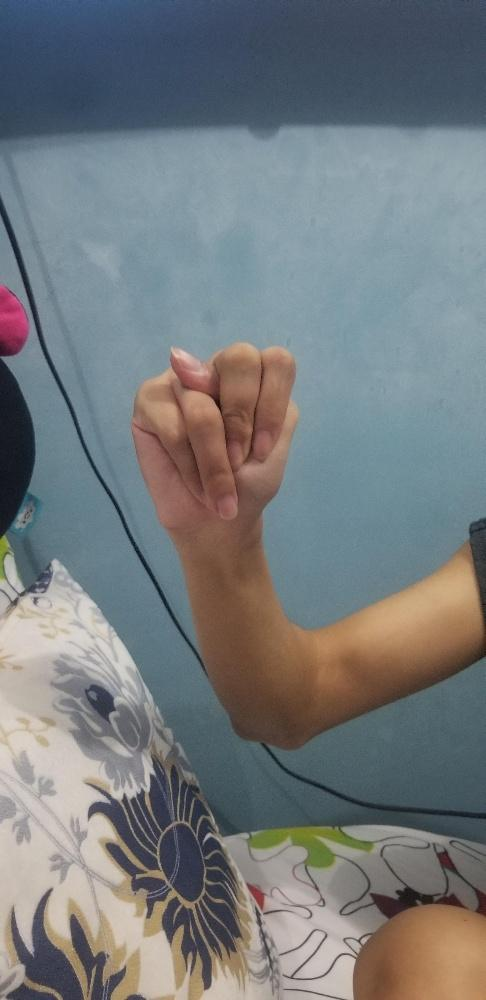n: (127, 340, 301, 532)
